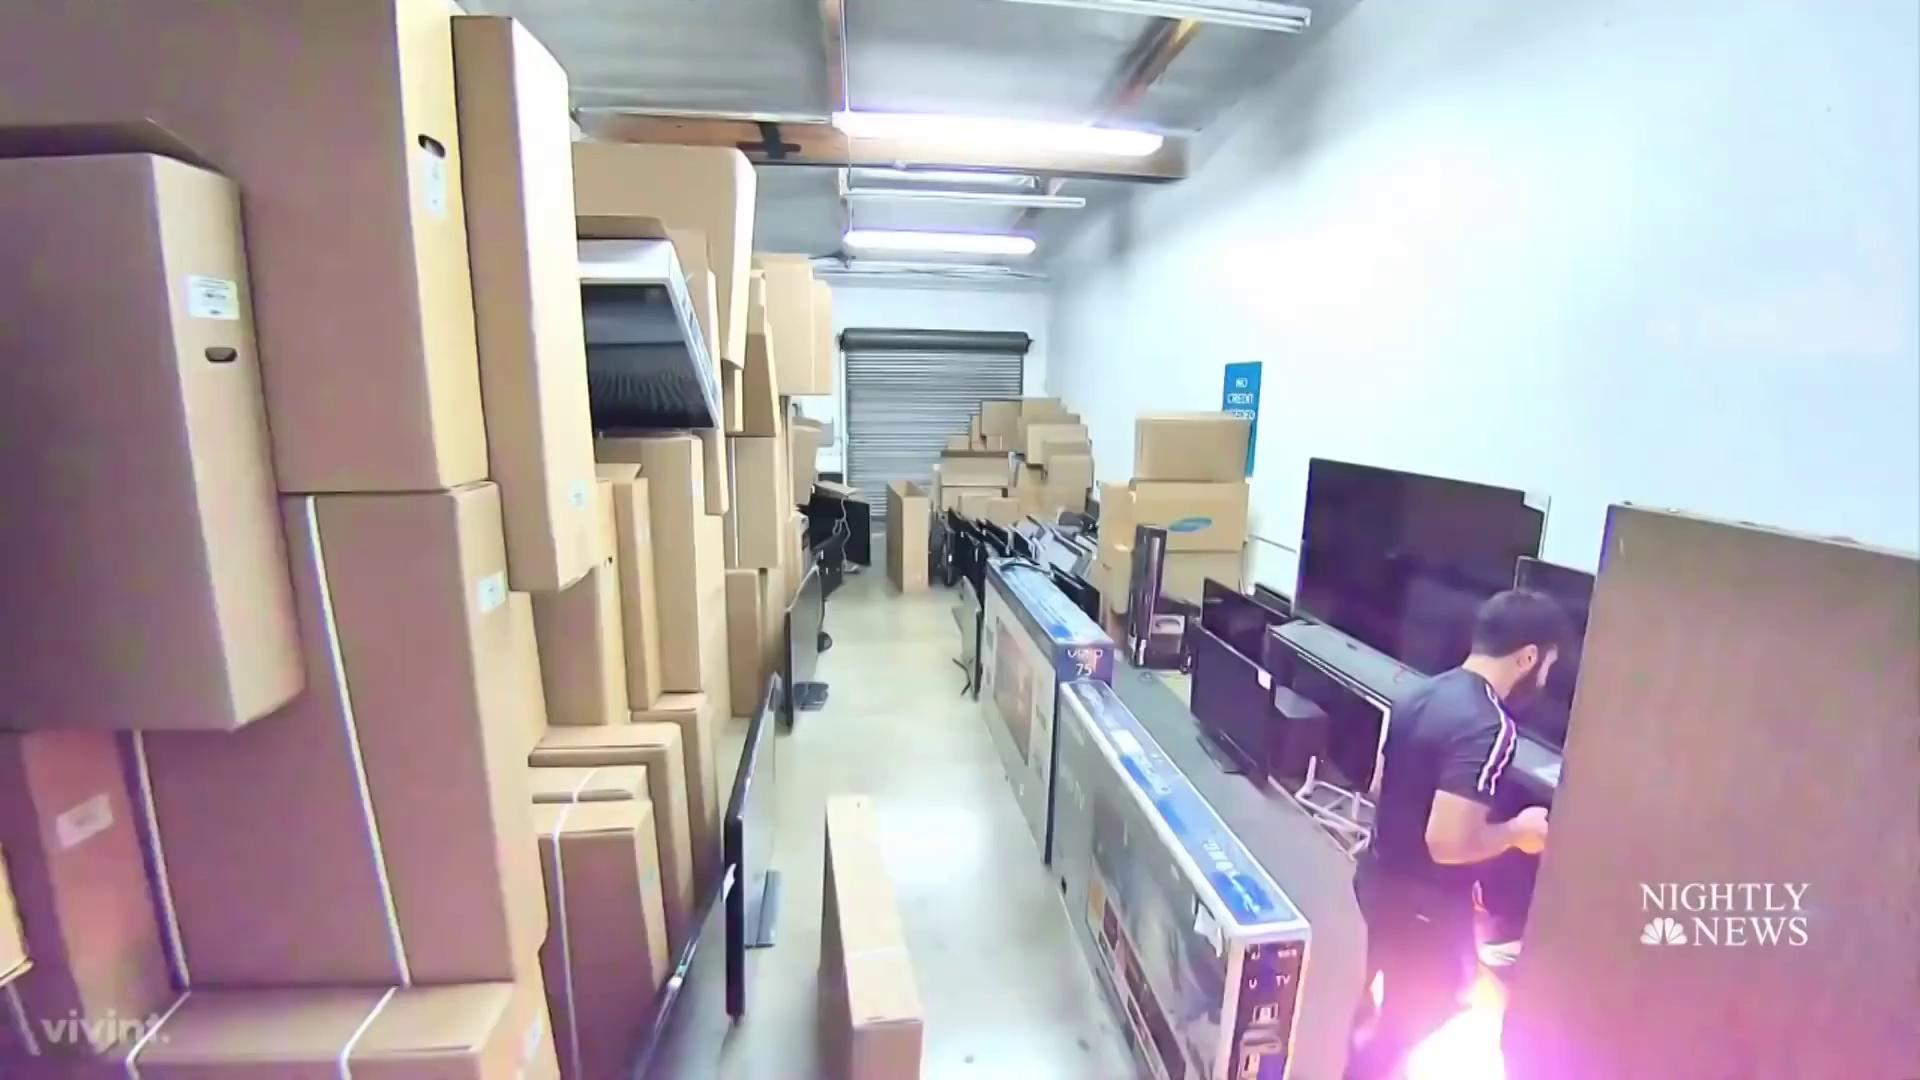fire: (1305, 928, 1706, 1080)
